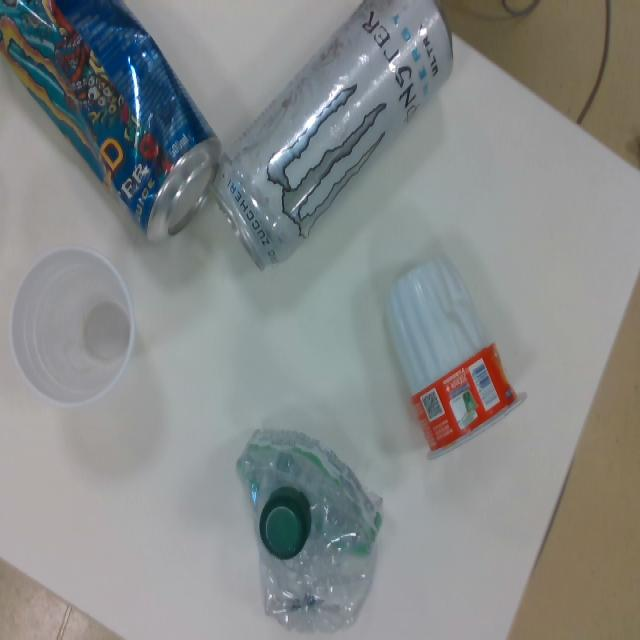aluminum: (208, 0, 457, 271), (0, 0, 223, 250)
plastic: (377, 255, 532, 462), (239, 424, 385, 637), (9, 243, 142, 420)
